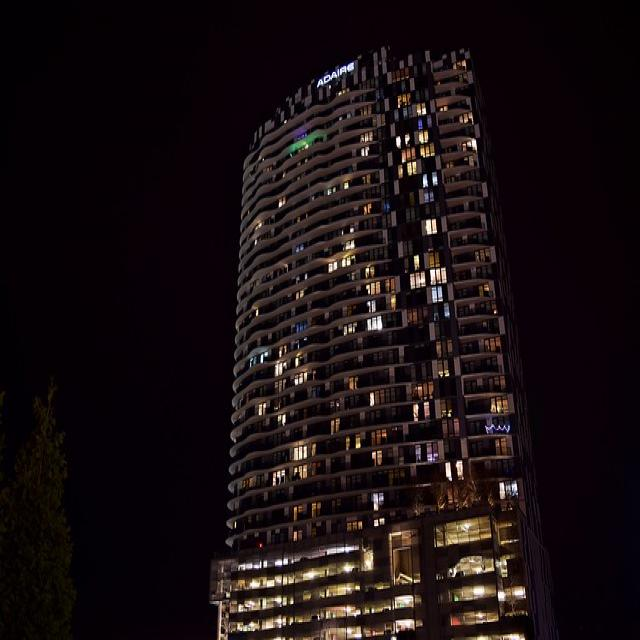Normal_building: (208, 39, 562, 640)
